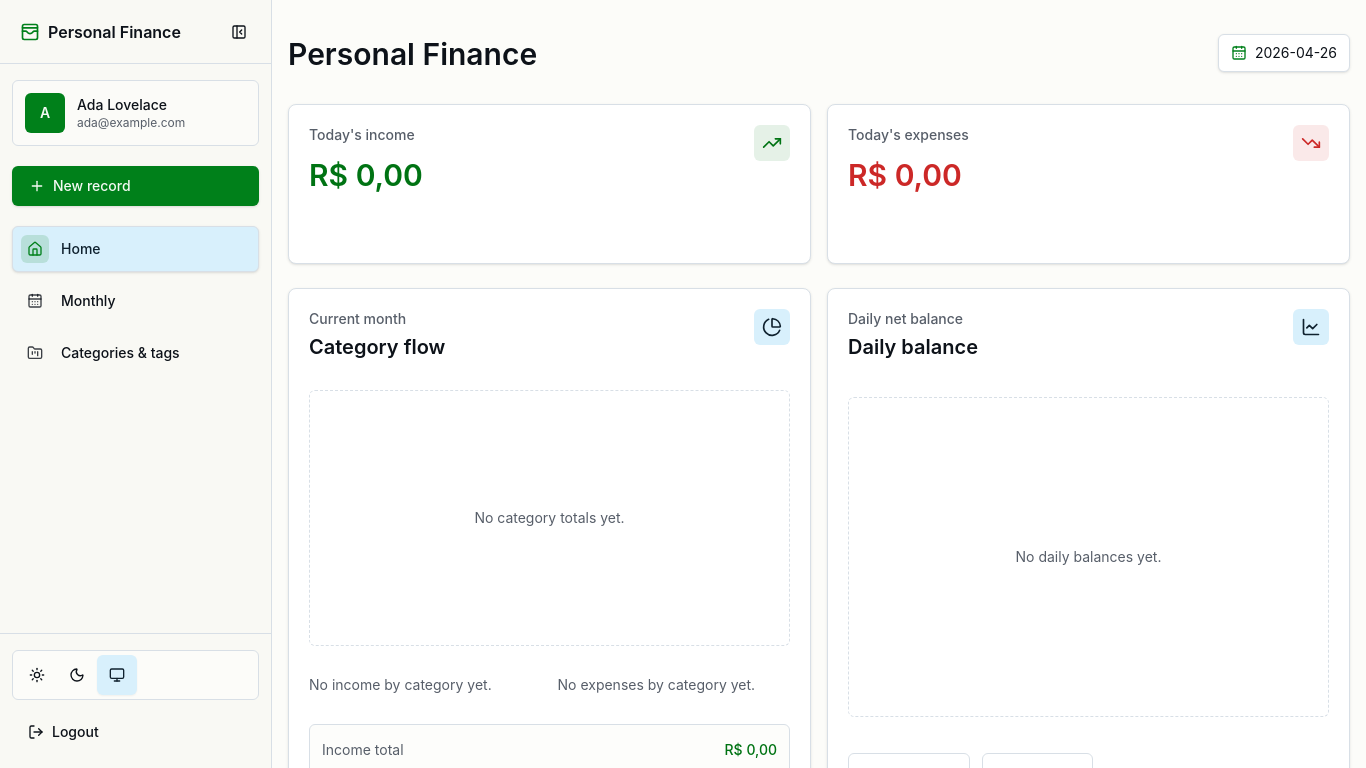
Test: logs out from the authenticated sidebar and returns to login
Click the button "Logout" at (136,732), box [12,712,259,752]
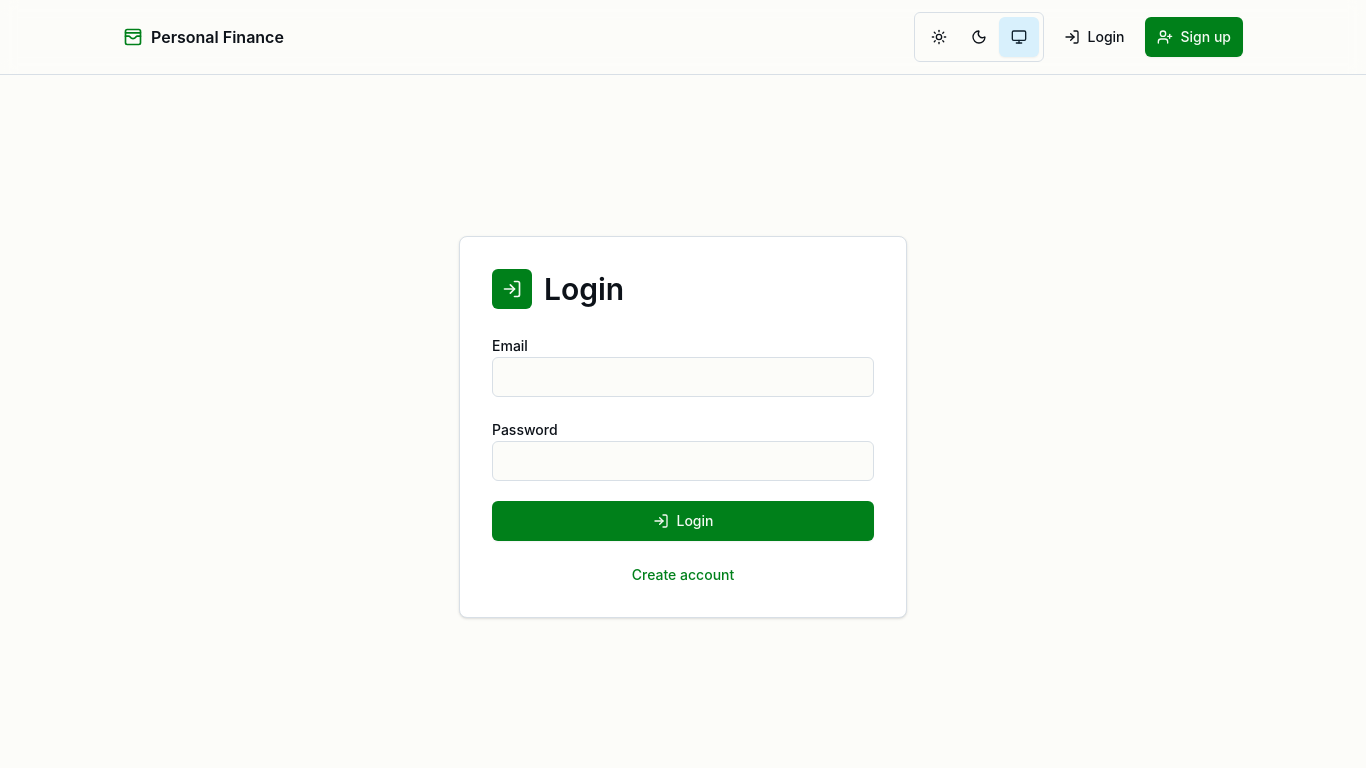
Check: the heading "Login" is shown, box [544,271,624,307]
